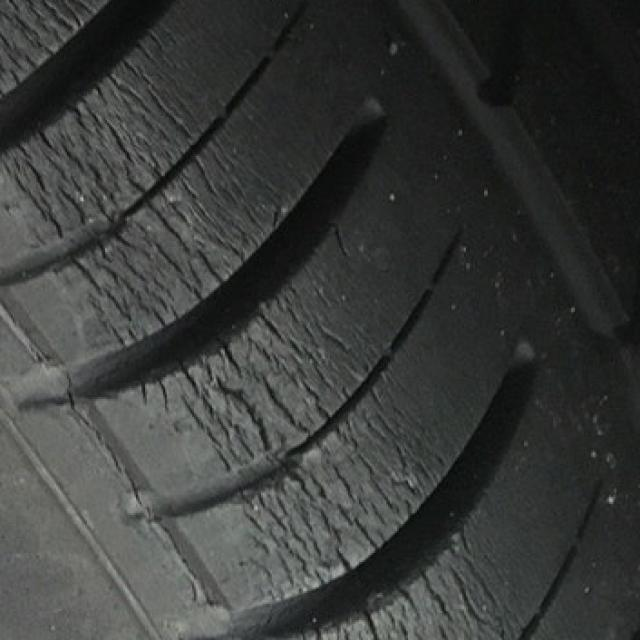Cracks: (0, 0, 603, 638)
